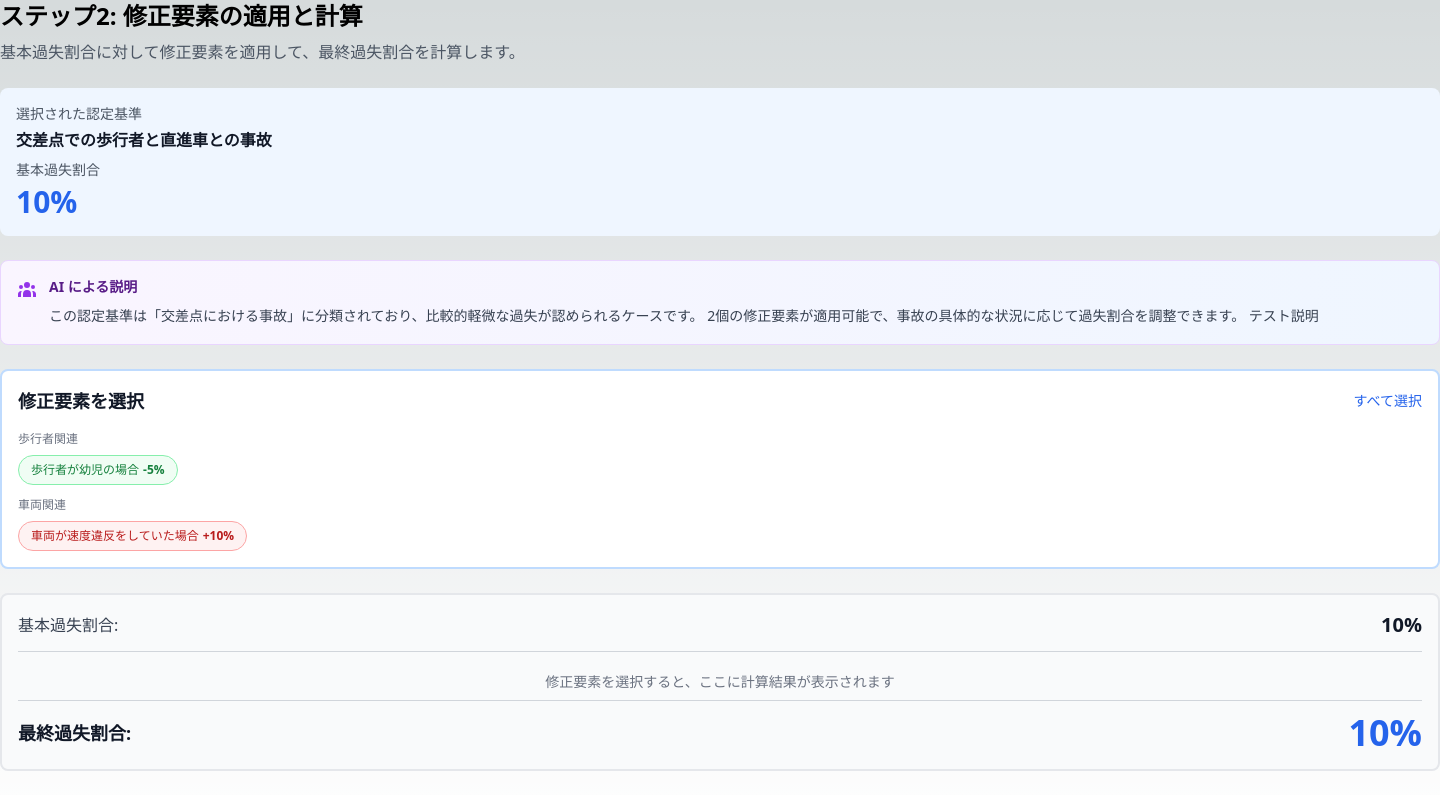
Step2Calculate › shows selected modifications in the summary
Click the button "歩行者が幼児の場合 -5%": (98,470) left=18, top=455, right=178, bottom=485
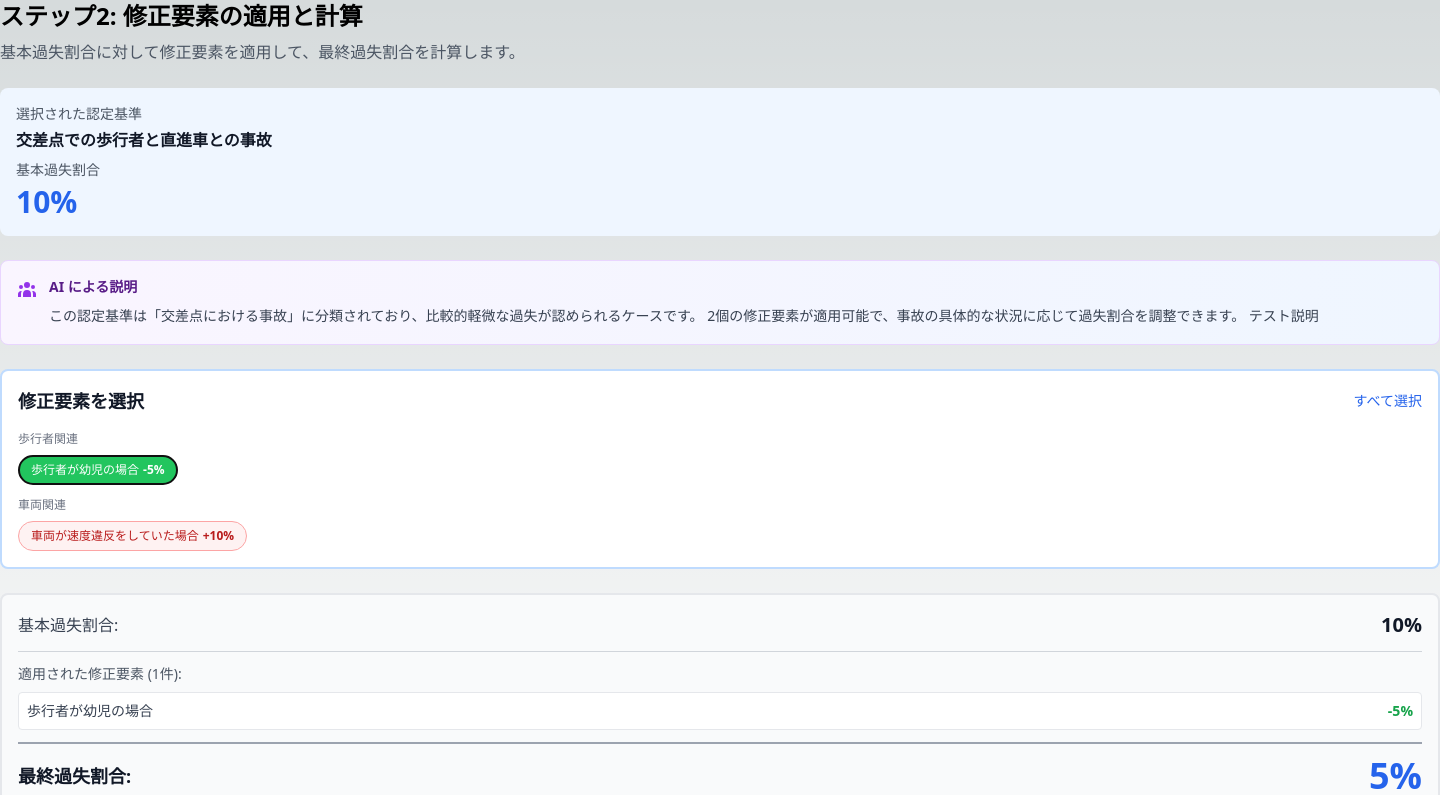
Expected: the text "歩行者が幼児の場合" below "歩行者関連" is shown, left=31, top=461, right=139, bottom=478
Now the text "最終過失割合:" is shown, box left=18, top=764, right=131, bottom=788
